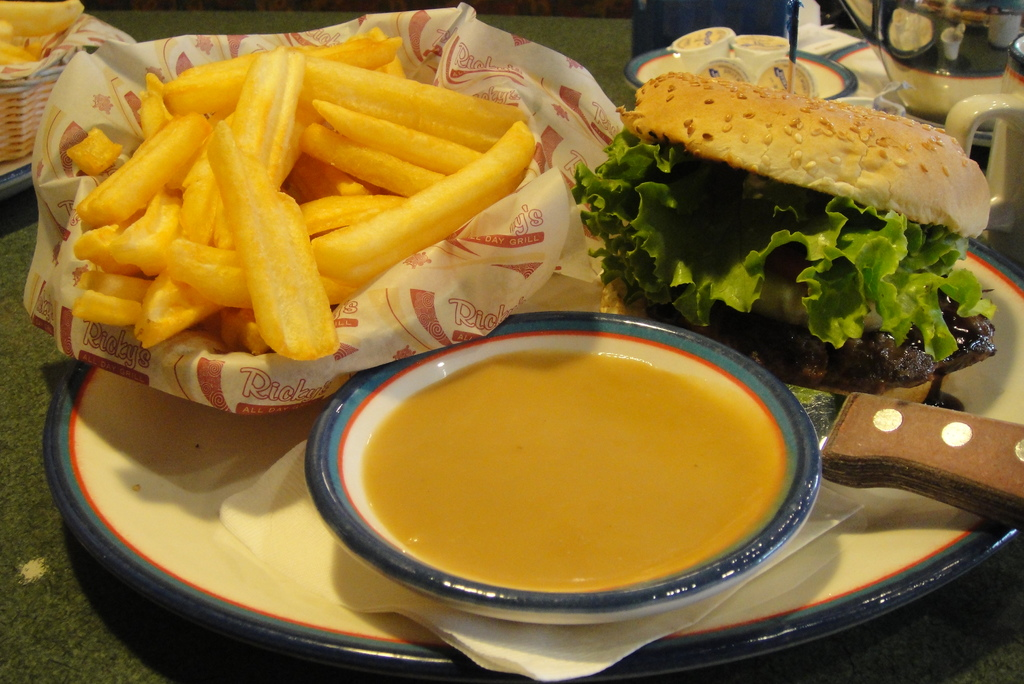French fries: (58, 12, 544, 372), (0, 0, 82, 67)
